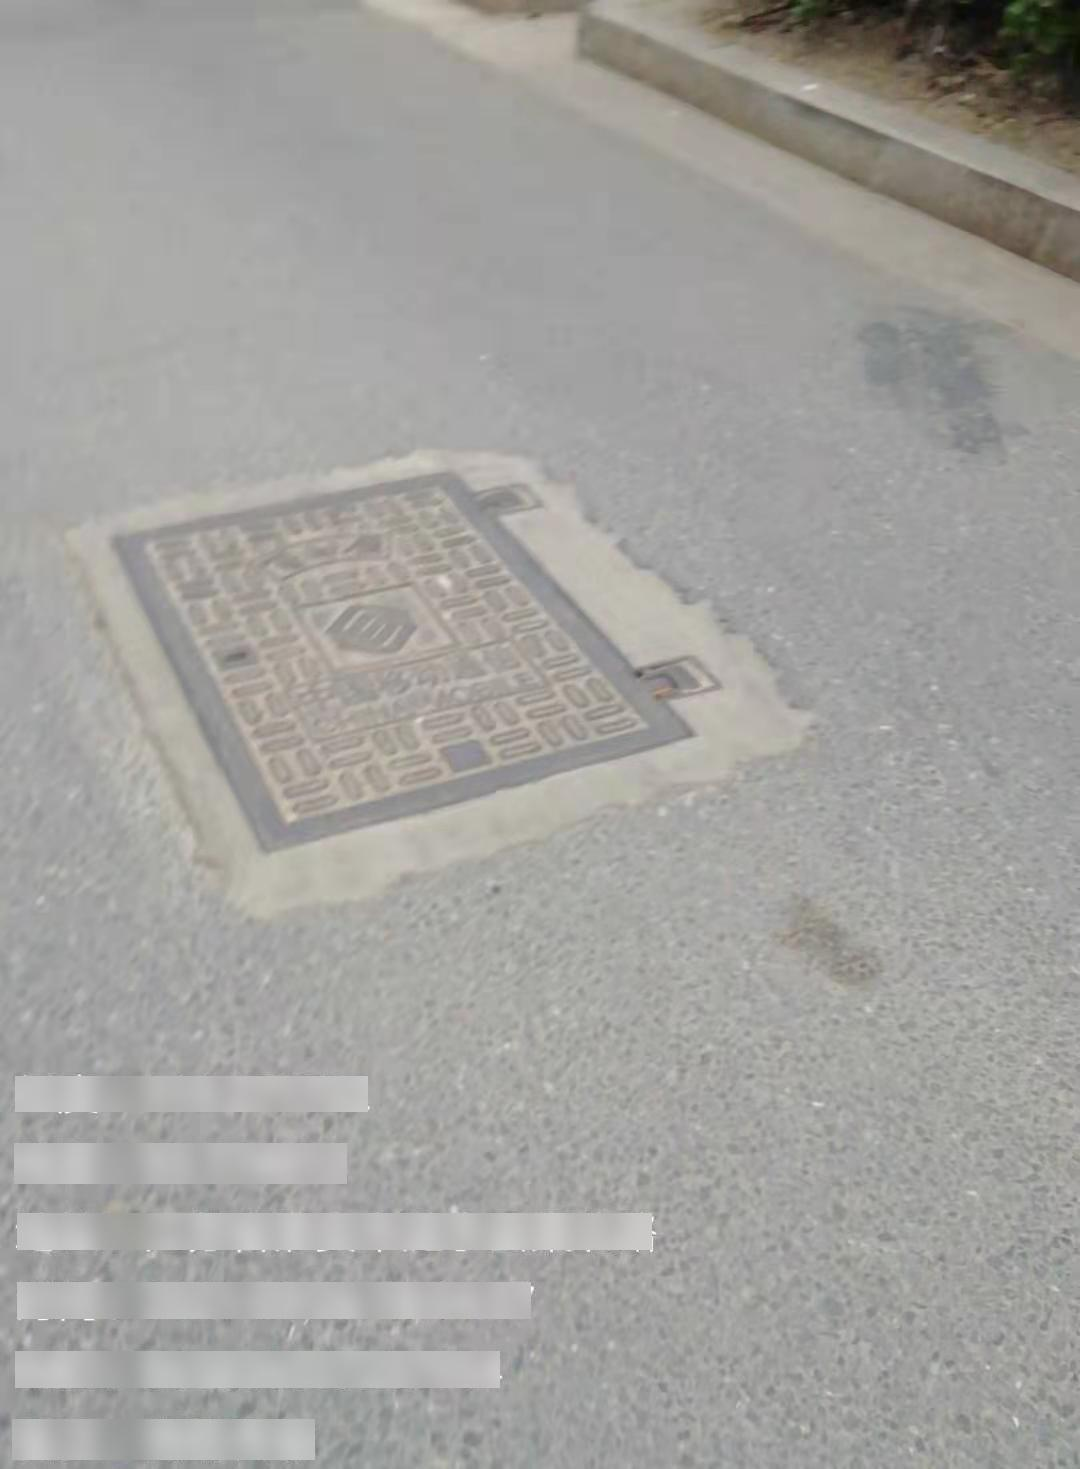wellcover: (89, 428, 740, 885)
